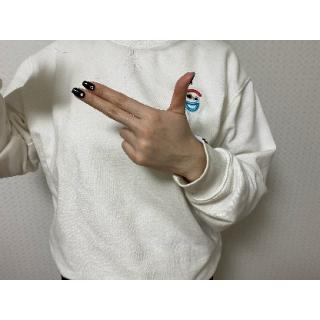GHAYN: (68, 64, 204, 177)
